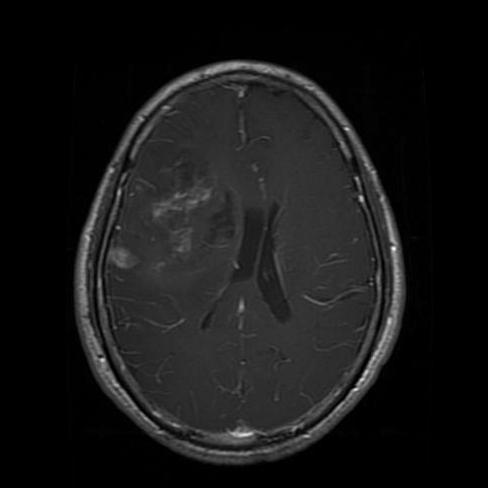Tumour-Glioma: (137, 150, 256, 267)
